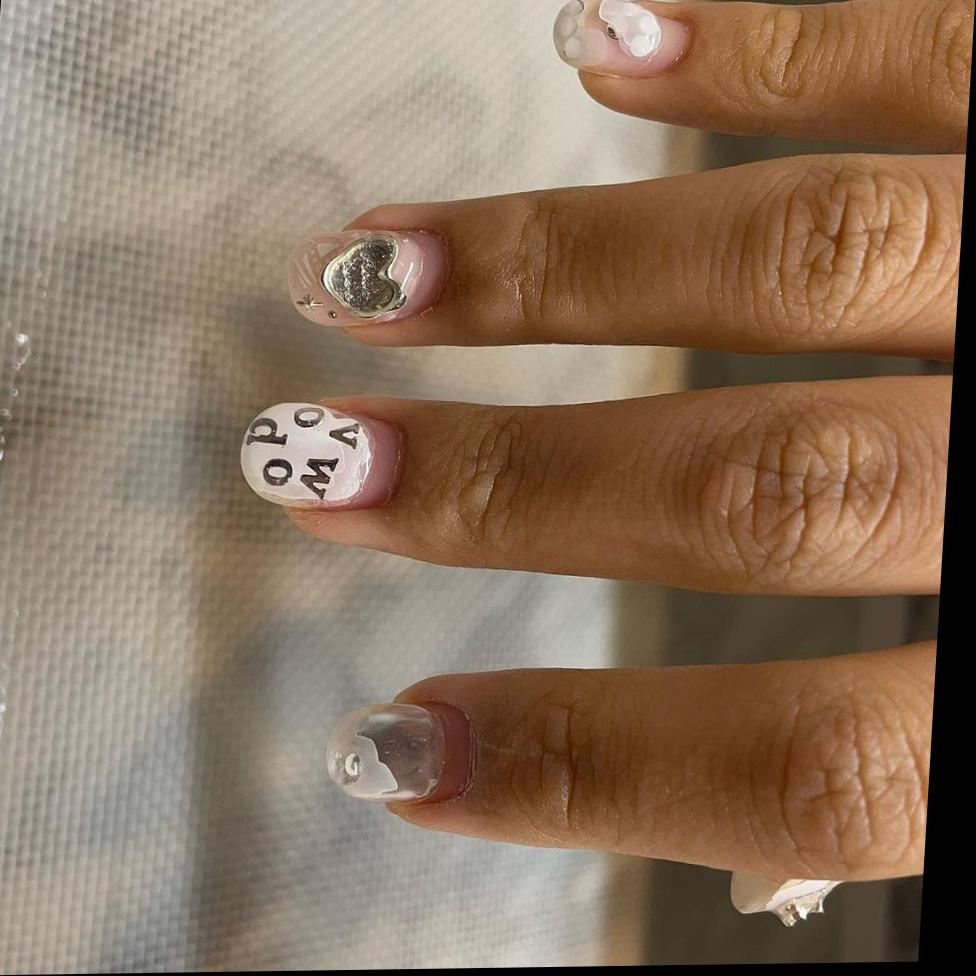nail: (235, 398, 410, 513), (321, 695, 480, 807), (308, 225, 451, 325), (550, 0, 695, 80), (726, 868, 845, 926)
